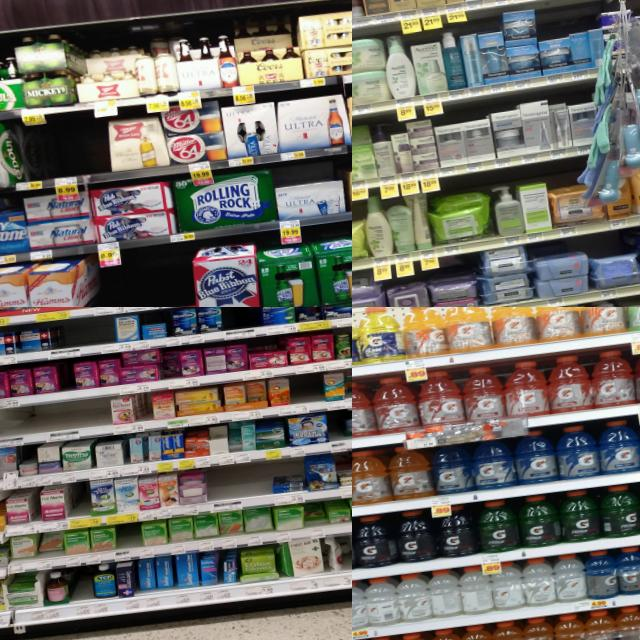100- O.O.S: (99, 247, 190, 307), (44, 120, 110, 188), (208, 460, 272, 512), (41, 396, 112, 442), (58, 316, 117, 358), (0, 405, 42, 448), (288, 372, 324, 413), (220, 307, 261, 339), (72, 564, 96, 616), (28, 128, 48, 188), (115, 522, 144, 560), (70, 480, 92, 528), (327, 410, 348, 452), (58, 358, 77, 400)
